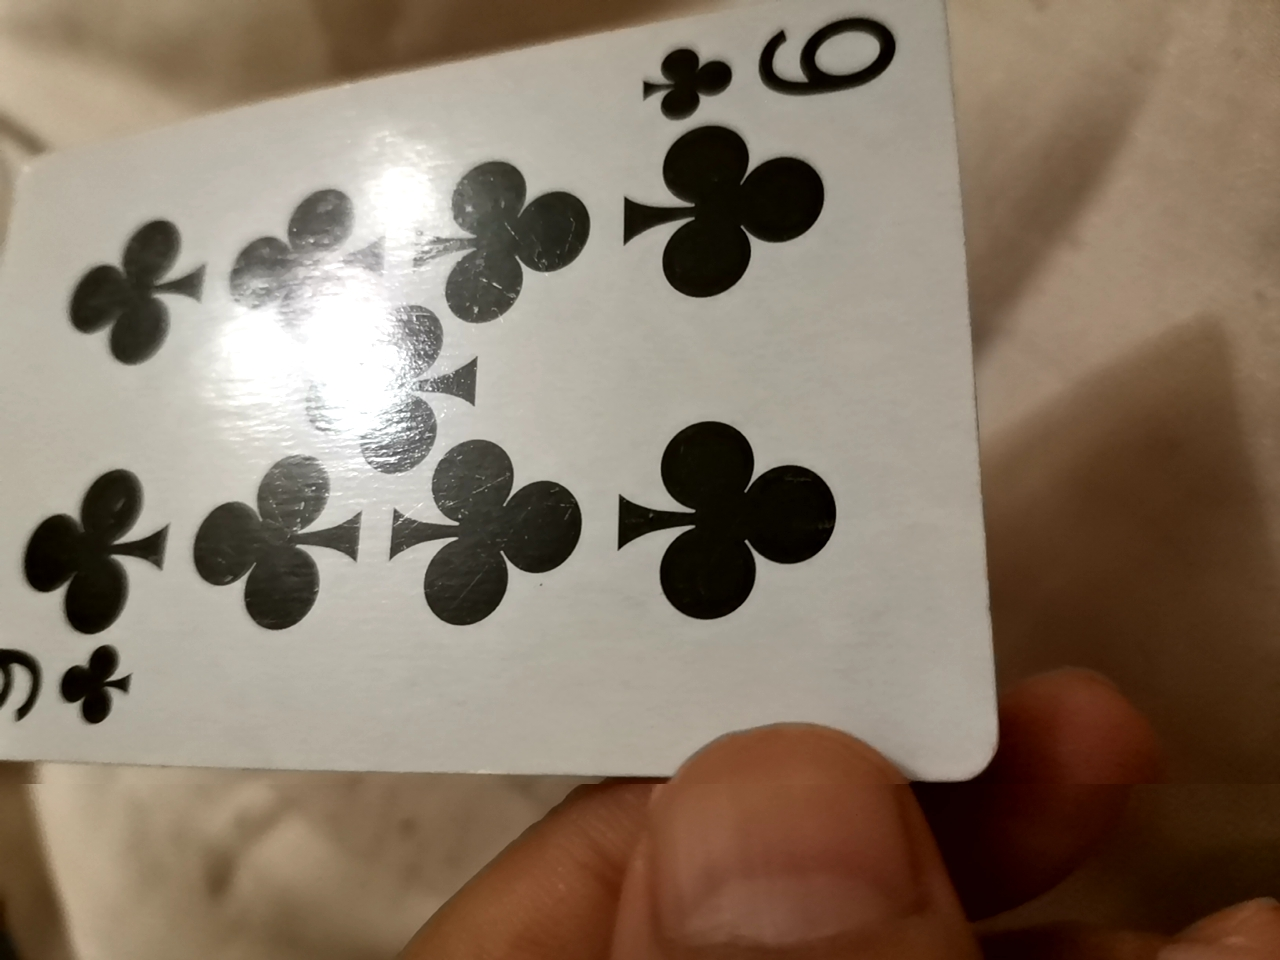mh 9: (0, 9, 1007, 810)
